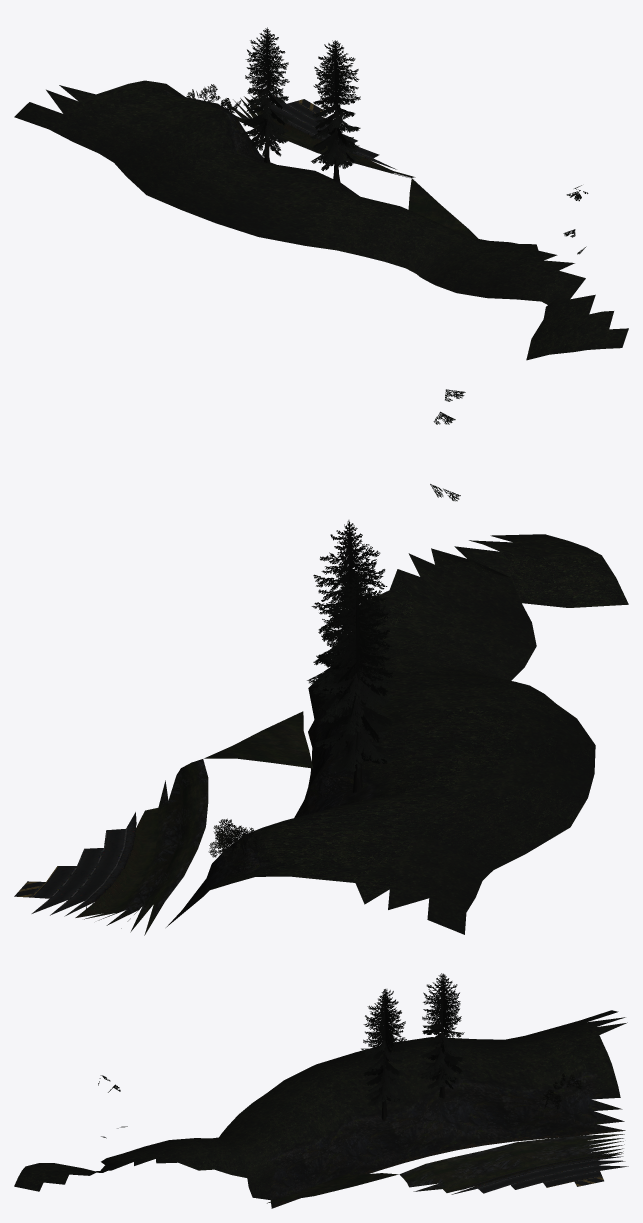
File: cell_7_-11.gltf
3 renders of one model, top to bottom at view 1: azimuth 30°, elevation 25°; view 2: azimuth 150°, elevation 25°; view 3: azimuth 270°, elevation 25°, orthographic. The views are drawn at different scales.
Parts seen in each view (by area): view 1: cell_7_-11; view 2: cell_7_-11; view 3: cell_7_-11.
Part boxes in pixels (<box>): cell_7_-11: <box>14,27,628,360</box>; cell_7_-11: <box>14,389,628,935</box>; cell_7_-11: <box>14,973,628,1208</box>.
Bounding box in the file's own units: 111 × 71.22 × 218.
Materials: 18 (18 with a texture image).
